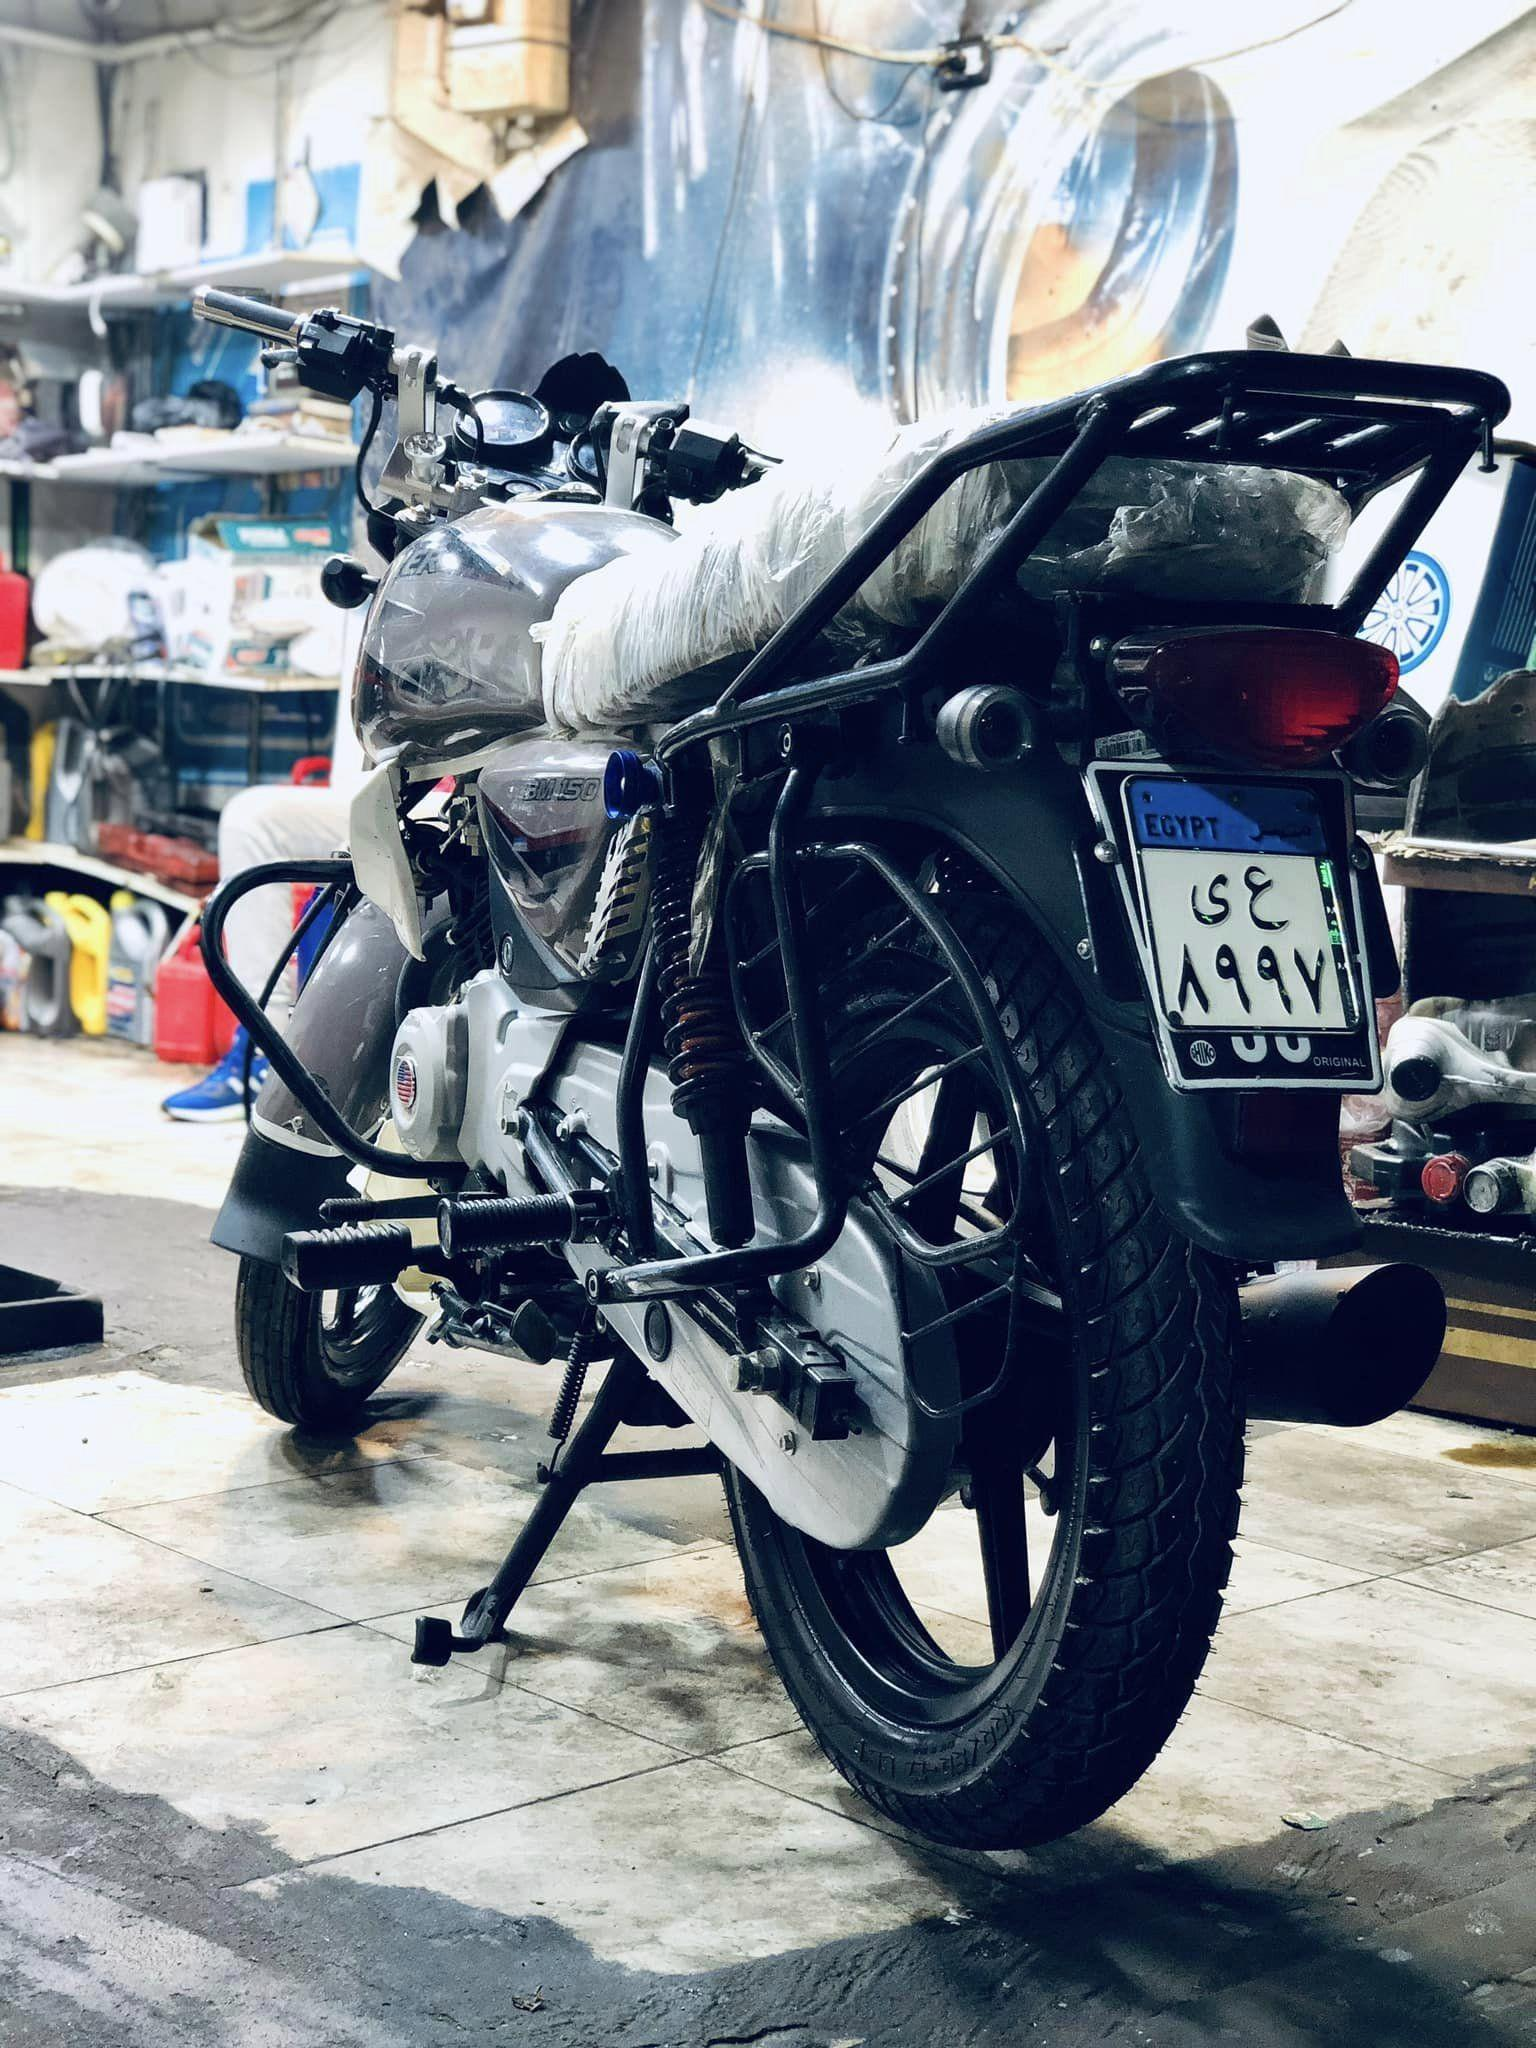License Plate: (1123, 752, 1360, 1036)
